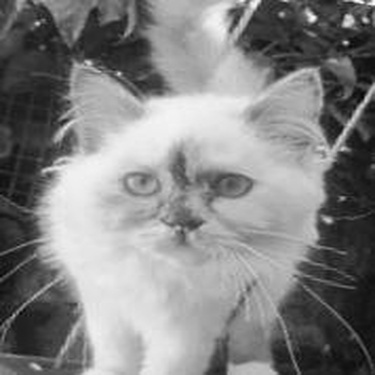cat: (33, 52, 330, 373)
